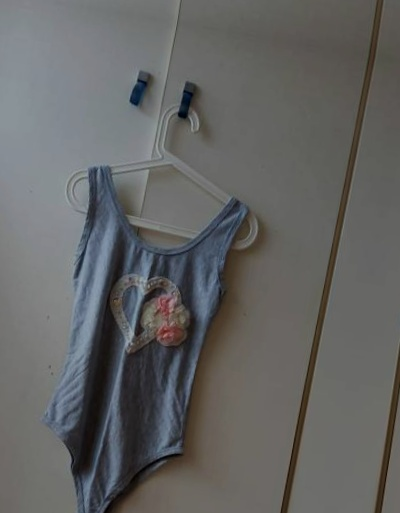Body: (2, 131, 257, 513)
